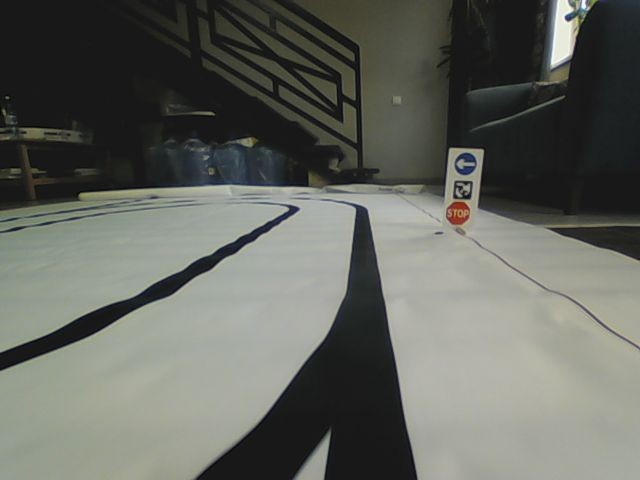Stop: (445, 200, 471, 226)
